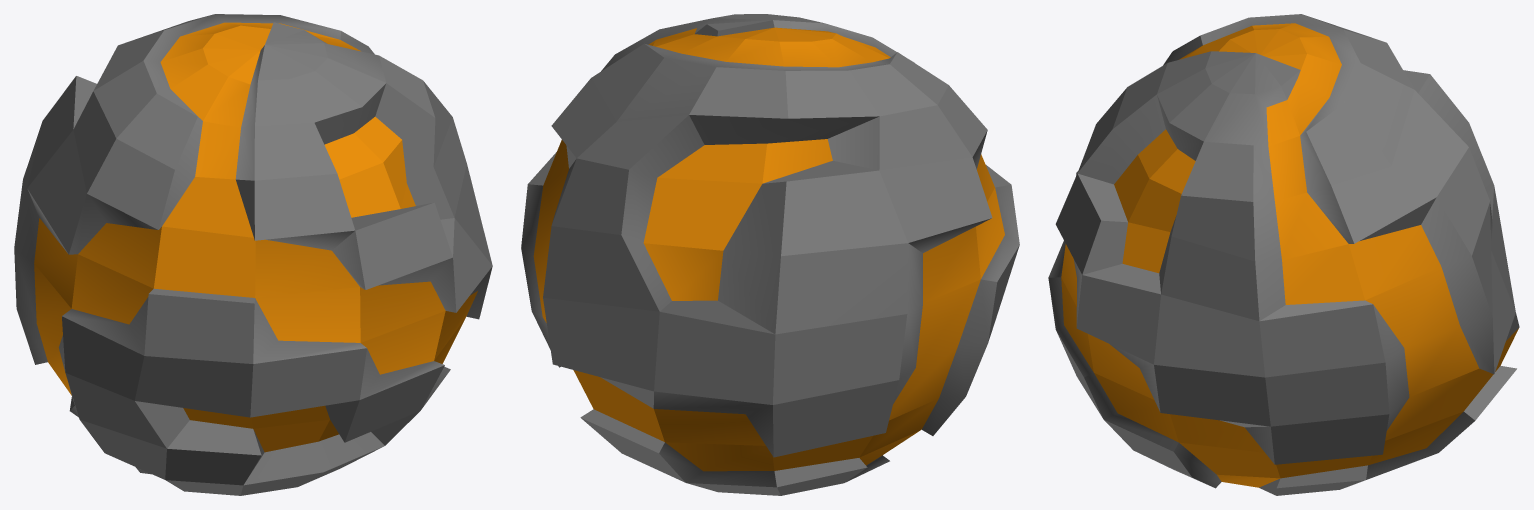
Rendered from MoltenBoulder4.fbx.
3 renders of one model, left to right at view 1: azimuth 30°, elevation 25°; view 2: azimuth 150°, elevation 25°; view 3: azimuth 270°, elevation 25°, orthographic.
Parts seen in each view (by area): view 1: pSphere2; view 2: pSphere2; view 3: pSphere2.
Boxes of the visible parts, x1=… form: pSphere2: x1=14, y1=14, x2=492, y2=495; pSphere2: x1=521, y1=14, x2=1019, y2=495; pSphere2: x1=1048, y1=14, x2=1519, y2=495.
Size of the model in its own units: 3.62 by 3.55 by 3.55.
